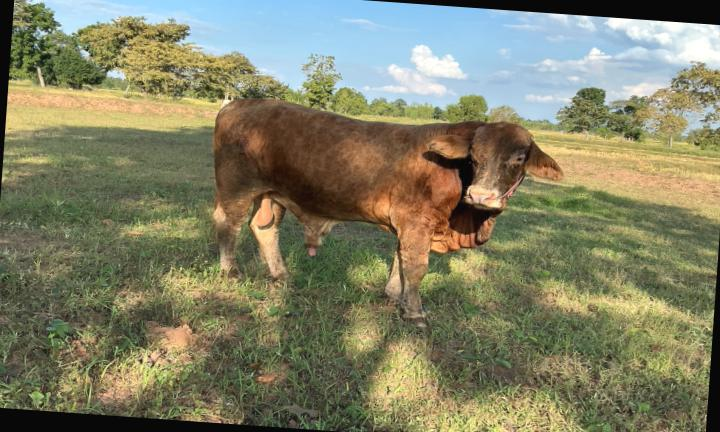Charolais: (213, 98, 563, 325)
